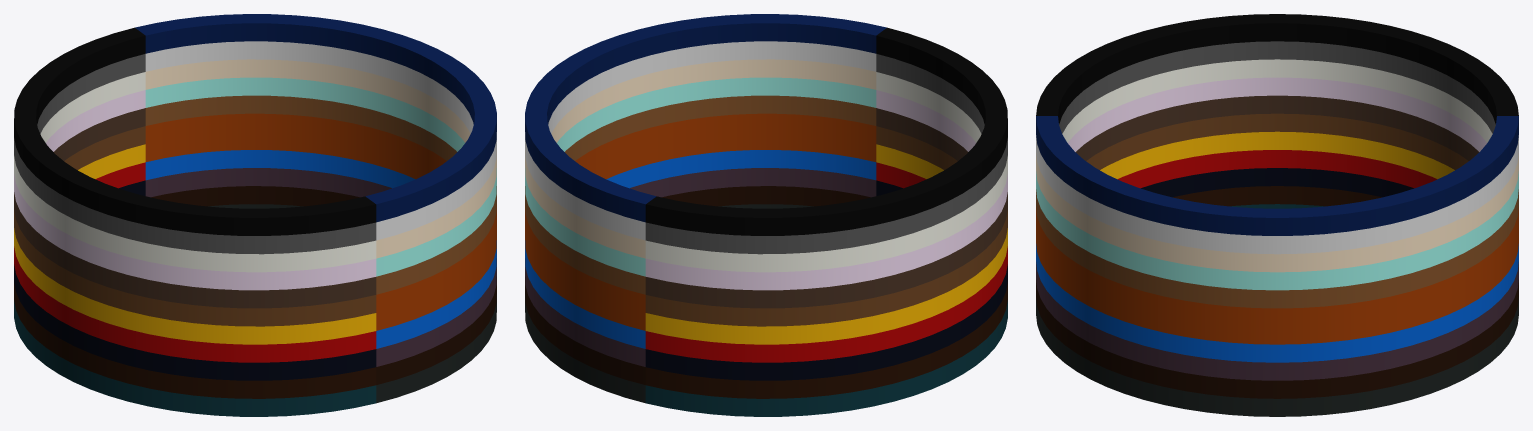
File: personaFinishExperiment.glb
The picture shows the model from 3 angles, left to right: view 1: azimuth 30°, elevation 25°; view 2: azimuth 150°, elevation 25°; view 3: azimuth 270°, elevation 25°; orthographic projection.
Parts seen in each view (by area): view 1: Cylinder; view 2: Cylinder; view 3: Cylinder.
Part boxes in pixels (x1,y1,x2,y2): Cylinder: (14,14,496,416); Cylinder: (525,14,1007,416); Cylinder: (1036,14,1518,416).
Size of the model in its own units: 4.4 by 2 by 4.4.
